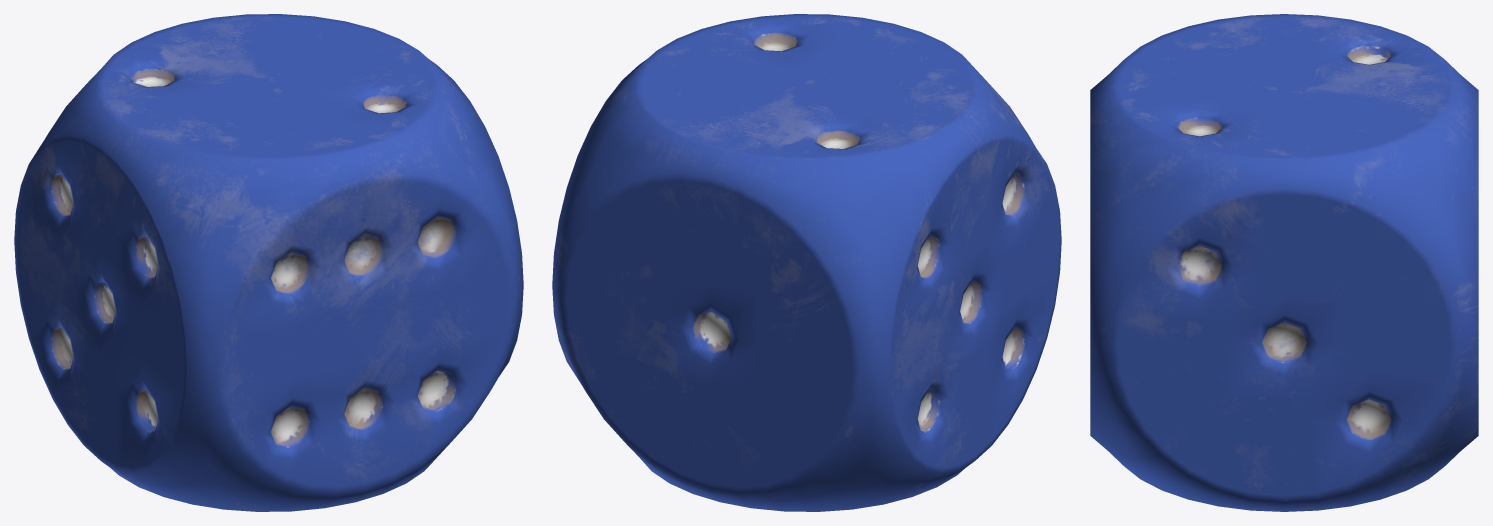
File: diceCollada.dae
The picture shows the model from 3 angles, left to right: view 1: azimuth 30°, elevation 25°; view 2: azimuth 150°, elevation 25°; view 3: azimuth 270°, elevation 25°; orthographic projection.
Parts seen in each view (by area): view 1: Dice; view 2: Dice; view 3: Dice.
Part boxes in pixels (x1,y1,x2,y2): Dice: (14,14,523,511); Dice: (552,14,1061,511); Dice: (1090,14,1478,511).
Bounding box in the file's own units: 0.01 × 0.01 × 0.01.
1 material, 1 textured.
